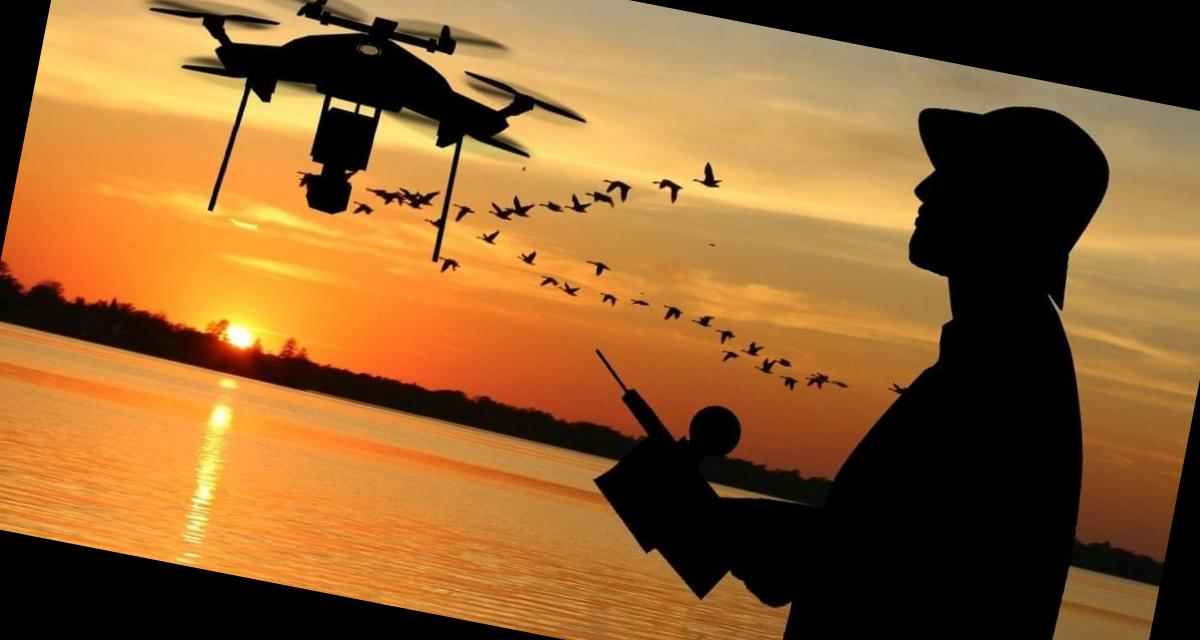drone: (124, 0, 581, 245)
